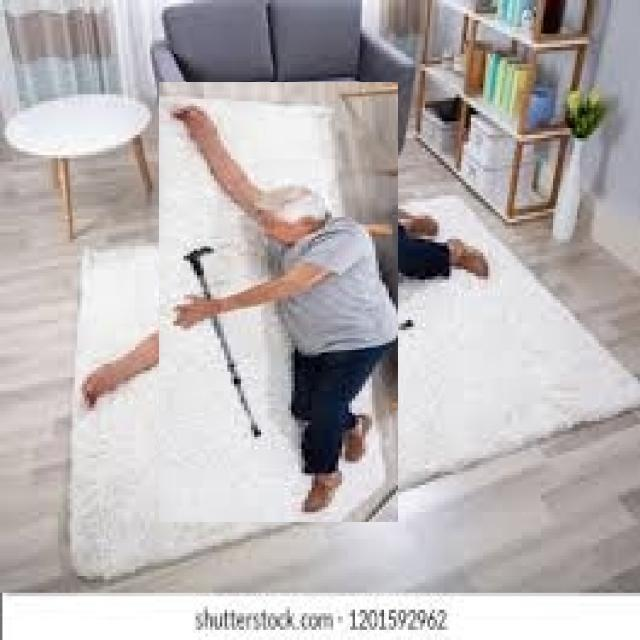Fall: (150, 79, 413, 535)
